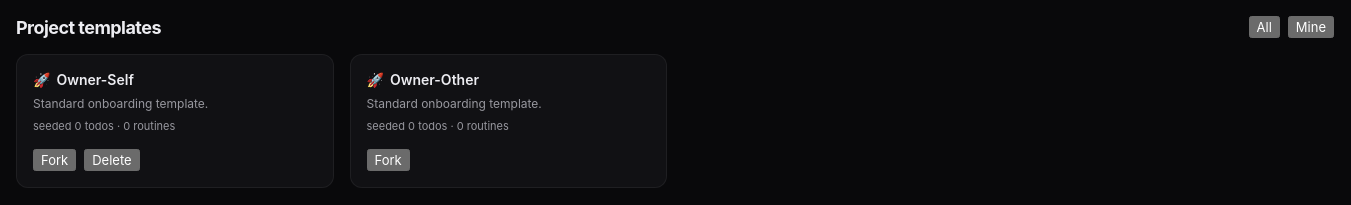
Test: TemplateGalleryRoute filter › toggles between all and mine (client-side projection)
This screenshot has width=1351, height=205.
expect the text "Owner-Self" is shown: met, box x1=56 y1=71 x2=134 y2=88
expect the text "Owner-Other" is shown: met, box x1=390 y1=71 x2=479 y2=88
What coordinates should you click on to do the following:
click the tab with test id "template-gallery-route-filter-mine"
I would click on:
 (1311, 27)
Its box is x1=1288 y1=16 x2=1334 y2=38.
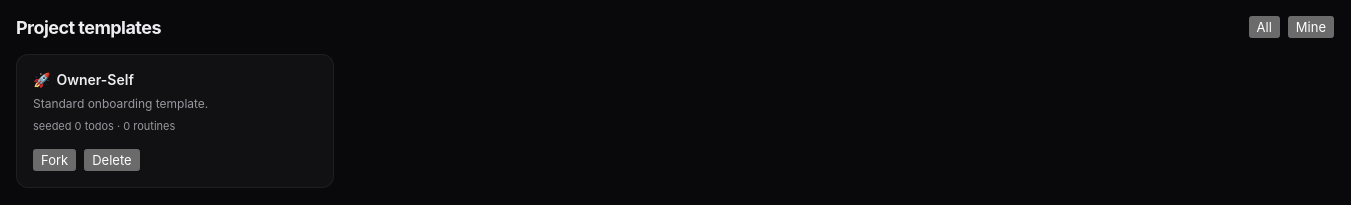
expect the text "Owner-Self" is shown: met, box x1=56 y1=71 x2=134 y2=88
expect the text "Owner-Other" is gone: met
